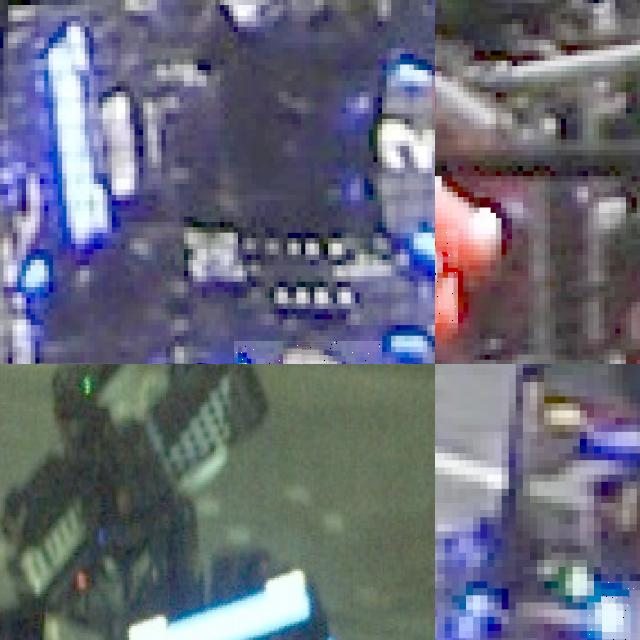B3: (233, 341, 382, 364)
R2: (435, 228, 458, 323)
